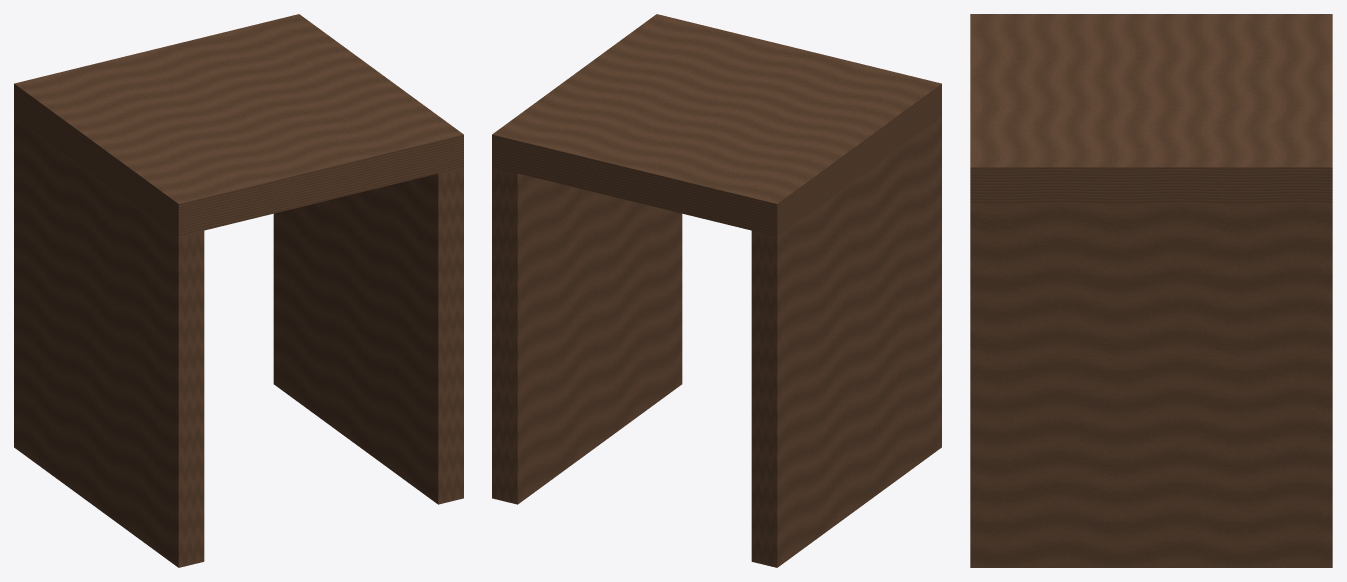
3 renders of one model, left to right at view 1: azimuth 30°, elevation 25°; view 2: azimuth 150°, elevation 25°; view 3: azimuth 270°, elevation 25°, orthographic. The views are drawn at different scales.
Visible parts, largest first — view 1: 2 left_side_panel, 1 table_top, 3 right_side_panel; view 2: 2 left_side_panel, 1 table_top, 3 right_side_panel; view 3: 3 right_side_panel, 1 table_top.
Boxes of the visible parts, x1,y1,x2,y2 form: 2 left_side_panel: [14, 116, 204, 567]; 1 table_top: [14, 14, 463, 236]; 3 right_side_panel: [273, 167, 463, 504]; 2 left_side_panel: [751, 116, 941, 567]; 1 table_top: [492, 14, 941, 236]; 3 right_side_panel: [492, 167, 682, 504]; 3 right_side_panel: [970, 203, 1332, 567]; 1 table_top: [970, 14, 1332, 203].
Bounding box in the file's own units: 0.82 × 1 × 0.82.
Materials: 1 (1 with a texture image).
